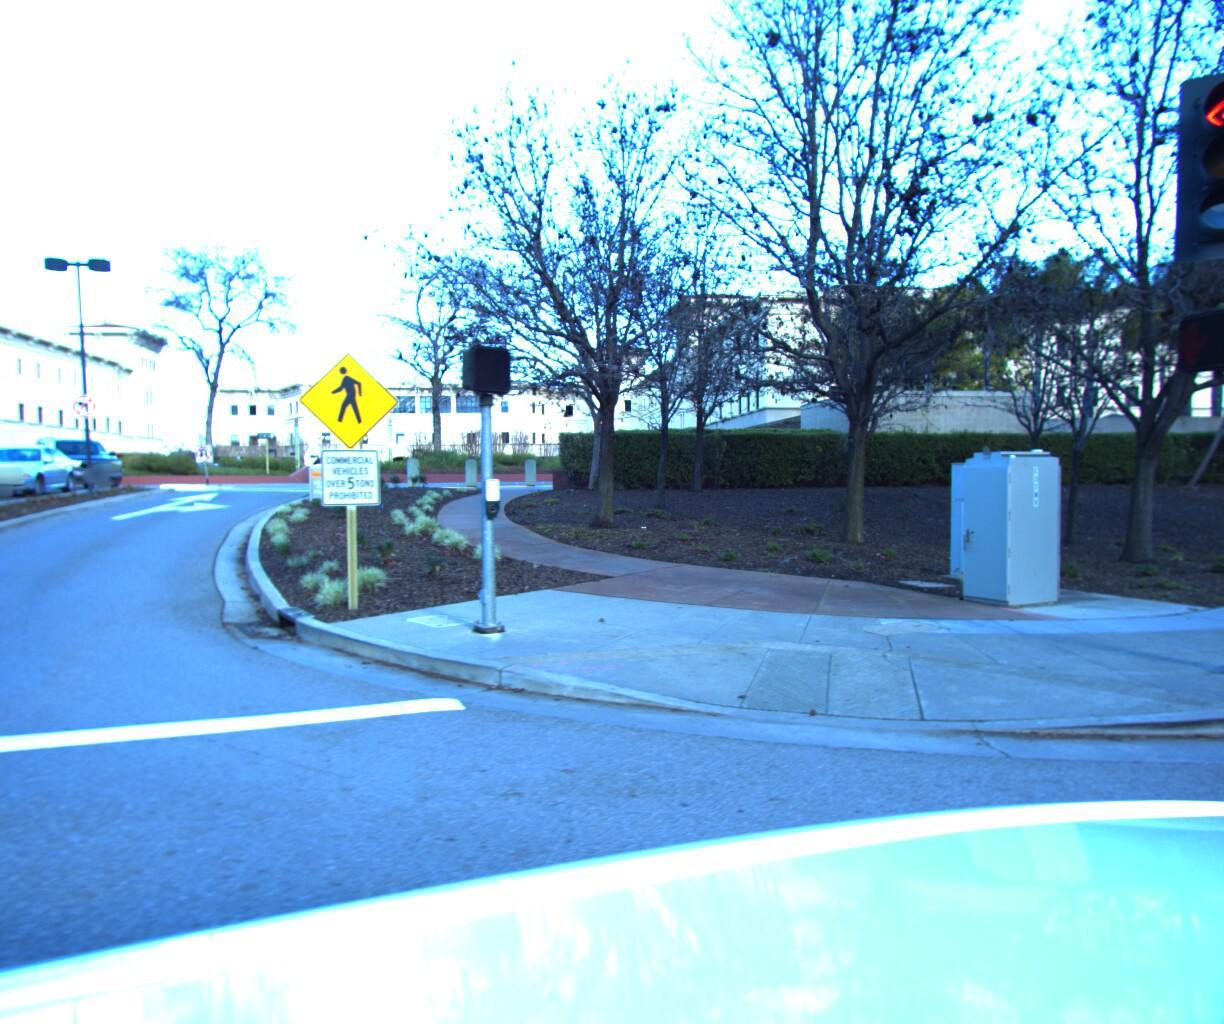car: (23, 436, 133, 488), (0, 441, 85, 500), (0, 427, 3, 523)
